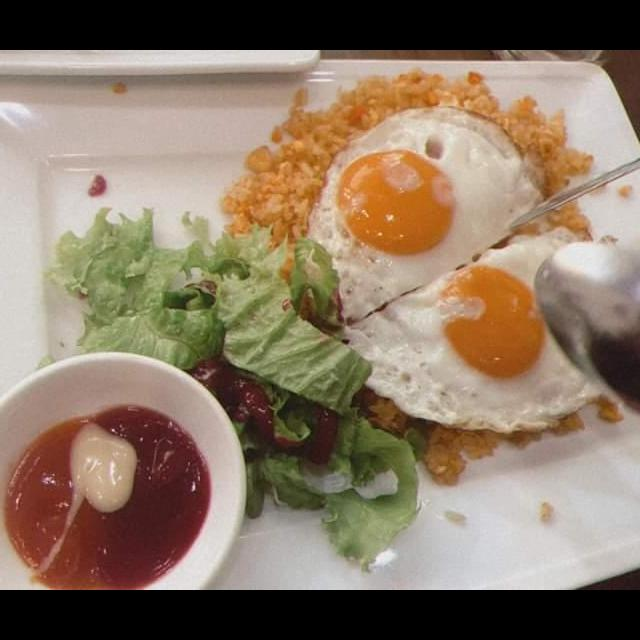com: (217, 84, 350, 252), (490, 90, 603, 243)
trung: (328, 224, 618, 437), (299, 102, 552, 333)
